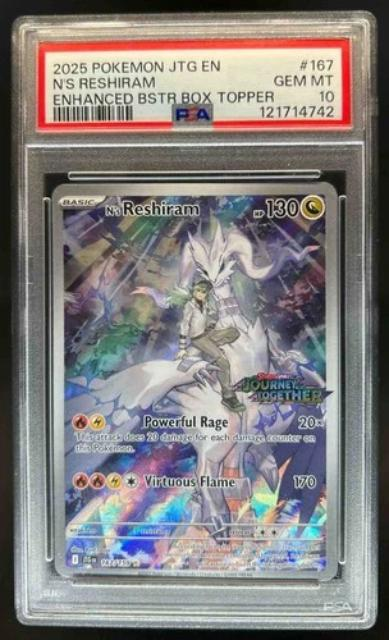Card: (46, 177, 343, 587)
Name: (101, 195, 205, 222)
